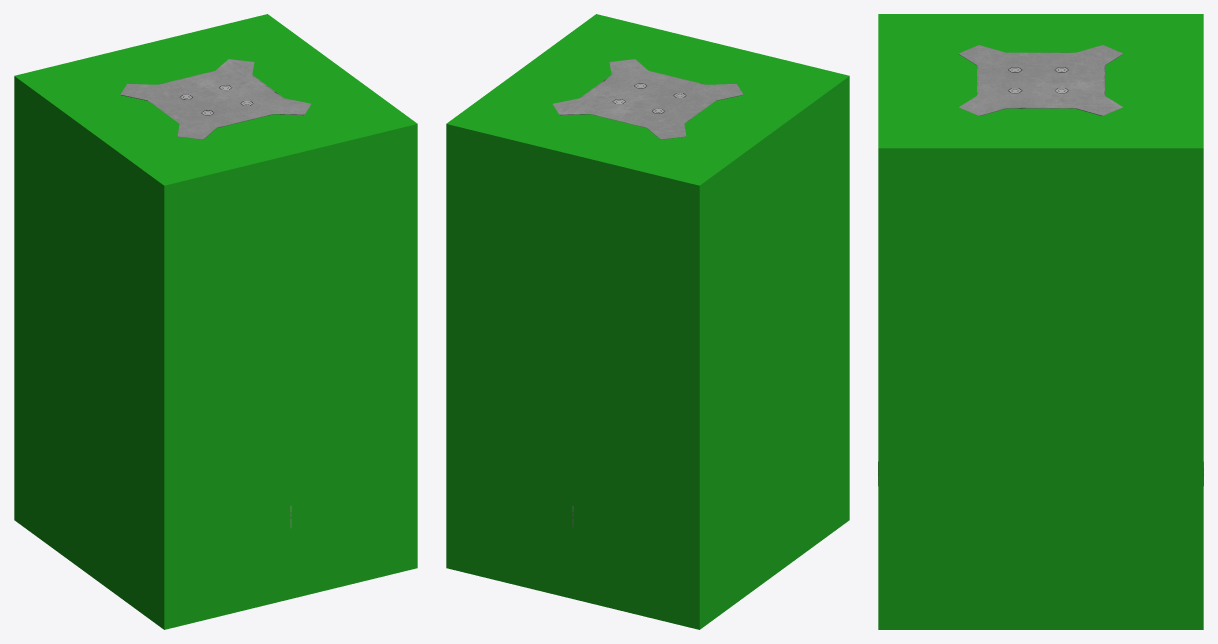
File: SciFi_light_fixture.DAE
3 renders of one model, left to right at view 1: azimuth 30°, elevation 25°; view 2: azimuth 150°, elevation 25°; view 3: azimuth 270°, elevation 25°, orthographic. The views are drawn at different scales.
Parts seen in each view (by area): view 1: bounds, SciFi_Light_Fixture; view 2: bounds, SciFi_Light_Fixture; view 3: bounds, SciFi_Light_Fixture.
Boxes of the visible parts, left/top/right/bottom form: bounds: left=14, top=14, right=417, bottom=629; SciFi_Light_Fixture: left=120, top=59, right=311, bottom=527; bounds: left=446, top=14, right=849, bottom=629; SciFi_Light_Fixture: left=552, top=59, right=743, bottom=527; bounds: left=878, top=14, right=1203, bottom=629; SciFi_Light_Fixture: left=878, top=45, right=1203, bottom=485.
Size of the model in its own units: 64.84 by 66.55 by 109.
